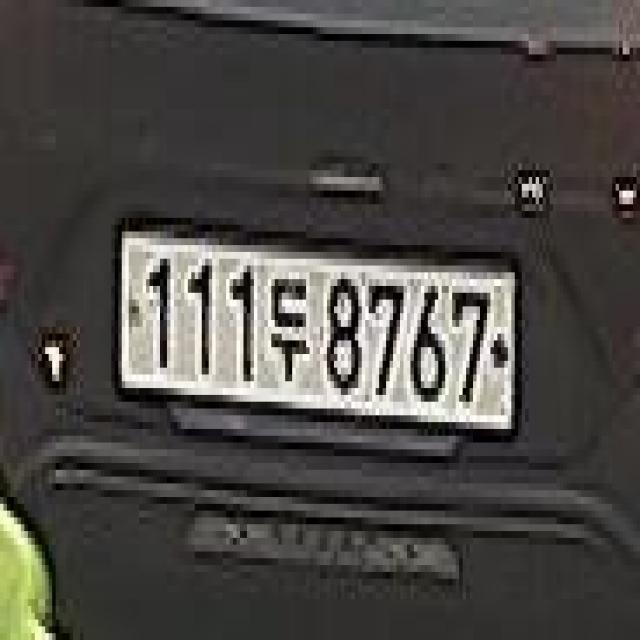illegal_plate: (112, 213, 526, 476)
